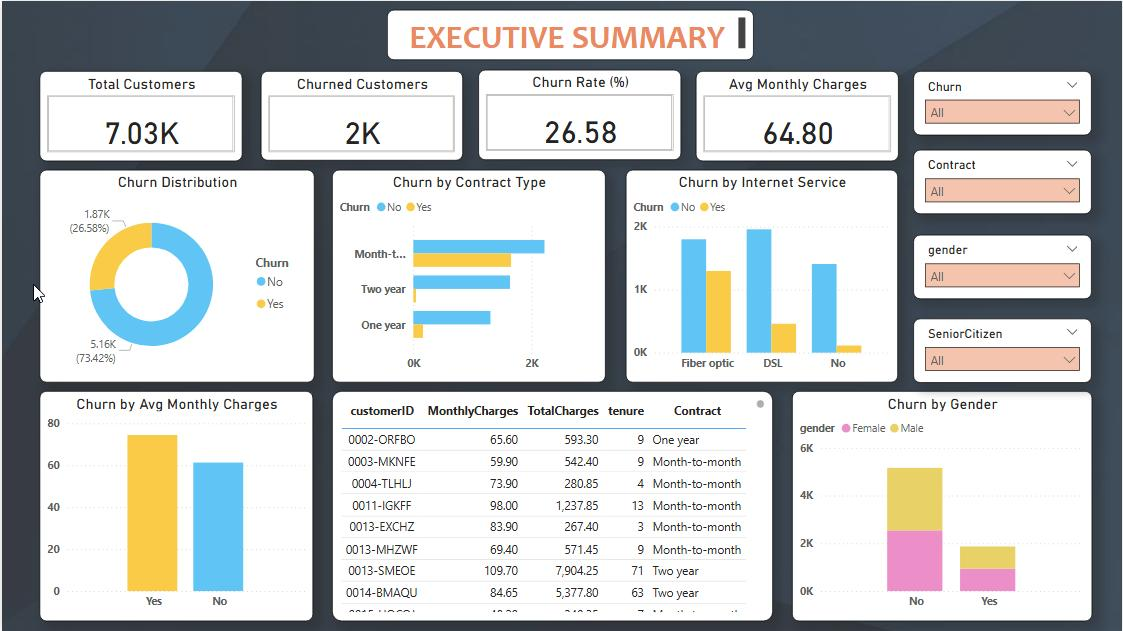

The page's visual inventory and layout, read from the dashboard file:
{"tool":"powerbi","page":{"name":"Page 1","canvas":[1280,720],"ordinal":0},"visuals":[{"type":"cardVisual","title":"Total Customers","fields":{"Data":["CountNonNull(telecom_churn_cleaned.customerID)"]},"box":[43.1,80.6,232.1,102.9],"z":0},{"type":"cardVisual","title":"Churned Customers","fields":{"Data":["Table.Churned Customers"]},"box":[296.2,79.5,231,102.6],"z":1000},{"type":"cardVisual","title":"Churn Rate (%)","fields":{"Data":["Table.Churn Rate (%)"]},"box":[544.9,79.2,232.1,102.9],"z":2000},{"type":"cardVisual","title":"Avg Monthly Charges","fields":{"Data":["Table.Avg Monthly Charges"]},"box":[792.4,80.6,232.1,102.9],"z":3000},{"type":"donutChart","title":"Churn Distribution","fields":{"Category":["telecom_churn_cleaned.Churn"],"Y":["CountNonNull(telecom_churn_cleaned.customerID)"]},"box":[43.1,193.2,314.2,243.3],"z":4000},{"type":"clusteredBarChart","title":"Churn by Contract Type","fields":{"Category":["telecom_churn_cleaned.Contract"],"Series":["telecom_churn_cleaned.Churn"],"Y":["CountNonNull(telecom_churn_cleaned.customerID)"]},"box":[376.7,193.2,312.8,243.3],"z":5000},{"type":"clusteredColumnChart","title":"Churn by Internet Service","fields":{"Category":["telecom_churn_cleaned.InternetService"],"Series":["telecom_churn_cleaned.Churn"],"Y":["CountNonNull(telecom_churn_cleaned.customerID)"]},"box":[713.1,193.2,311.4,243.3],"z":6000},{"type":"columnChart","title":"Churn by Avg Monthly Charges","fields":{"Category":["telecom_churn_cleaned.Churn"],"Y":["Table.Avg Monthly Charges"]},"box":[42.9,445.7,312.9,262.9],"z":7000},{"type":"tableEx","fields":{"Values":["telecom_churn_cleaned.customerID","telecom_churn_cleaned.MonthlyCharges","telecom_churn_cleaned.TotalCharges","telecom_churn_cleaned.tenure","telecom_churn_cleaned.Contract"]},"box":[377.1,445.7,504.3,262.9],"z":8000},{"type":"columnChart","title":"Churn by Gender","fields":{"Category":["telecom_churn_cleaned.Churn"],"Y":["CountNonNull(telecom_churn_cleaned.customerID)"],"Series":["telecom_churn_cleaned.gender"]},"box":[902.9,445.7,342.9,262.9],"z":9000},{"type":"slicer","fields":{"Values":["telecom_churn_cleaned.Churn"]},"box":[1041.2,80.6,204.3,73.7],"z":10000},{"type":"slicer","fields":{"Values":["telecom_churn_cleaned.Contract"]},"box":[1041.2,169.6,204.3,73.7],"z":11000},{"type":"slicer","fields":{"Values":["telecom_churn_cleaned.gender"]},"box":[1041.2,266.9,204.3,73.7],"z":12000},{"type":"slicer","fields":{"Values":["telecom_churn_cleaned.SeniorCitizen"]},"box":[1041.2,362.8,204.3,73.7],"z":13000},{"type":"textbox","box":[440.6,10.1,419,57.8],"z":14000}]}

Visuals, with their boxes in screenshot pixels (x1, y1, x2, y2), scaled from the page's 1280x720 canvas onto the 1123x631 screenshot:
"Total Customers" cardVisual: 38,71,241,161
"Churned Customers" cardVisual: 260,70,463,160
"Churn Rate (%)" cardVisual: 478,69,682,160
"Avg Monthly Charges" cardVisual: 695,71,899,161
"Churn Distribution" donutChart: 38,169,313,383
"Churn by Contract Type" clusteredBarChart: 330,169,605,383
"Churn by Internet Service" clusteredColumnChart: 626,169,899,383
"Churn by Avg Monthly Charges" columnChart: 38,391,312,621
tableEx - telecom_churn_cleaned.customerID x telecom_churn_cleaned.MonthlyCharges: 331,391,773,621
"Churn by Gender" columnChart: 792,391,1093,621
slicer - telecom_churn_cleaned.Churn: 913,71,1093,135
slicer - telecom_churn_cleaned.Contract: 913,149,1093,213
slicer - telecom_churn_cleaned.gender: 913,234,1093,298
slicer - telecom_churn_cleaned.SeniorCitizen: 913,318,1093,383
textbox: 387,9,754,60
